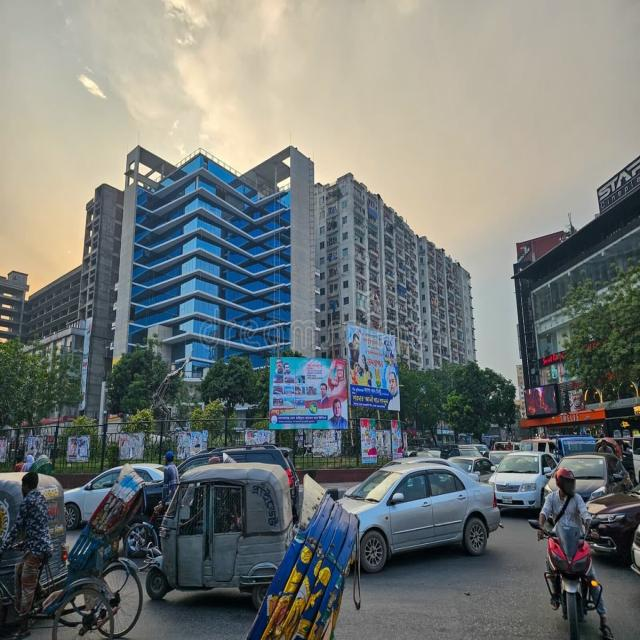CNG: (144, 450, 300, 608)
Car: (328, 463, 509, 589), (492, 453, 561, 515)
Motorbike: (529, 506, 608, 640)
Rickshaw: (1, 460, 155, 640)
